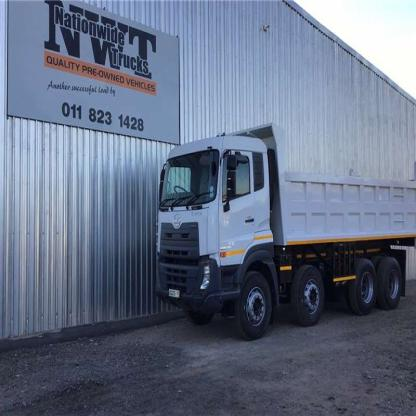dump_truck: (152, 117, 415, 325)
